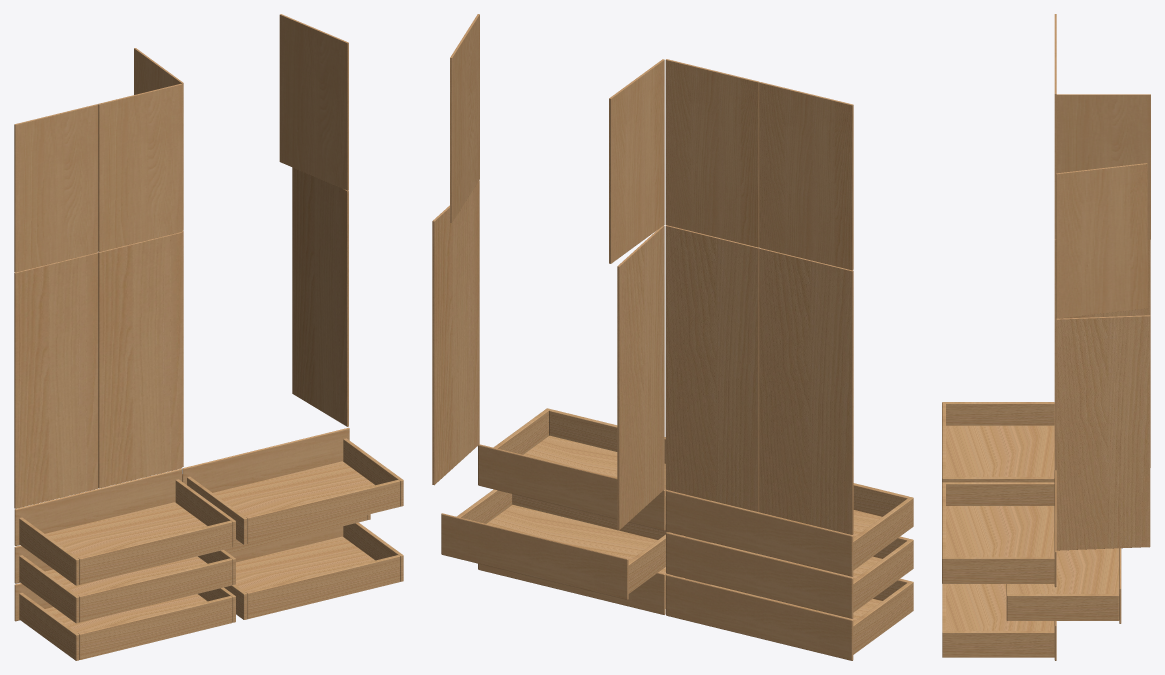
File: lockerTypeTwoViewTwo.gltf
3 views of the same model, side by side, from view 1: azimuth 30°, elevation 25°; view 2: azimuth 150°, elevation 25°; view 3: azimuth 270°, elevation 25° (orthographic). The views are drawn at different scales.
Parts seen in each view (by area): view 1: lockerTypeTwoViewTwo; view 2: lockerTypeTwoViewTwo; view 3: lockerTypeTwoViewTwo.
Part boxes in pixels (x1,y1,x2,y2): lockerTypeTwoViewTwo: (14,14,403,660); lockerTypeTwoViewTwo: (432,14,913,660); lockerTypeTwoViewTwo: (942,14,1150,660).
Size of the model in its own units: 1.9 by 2.69 by 1.05.
Materials: 1 (1 with a texture image).
